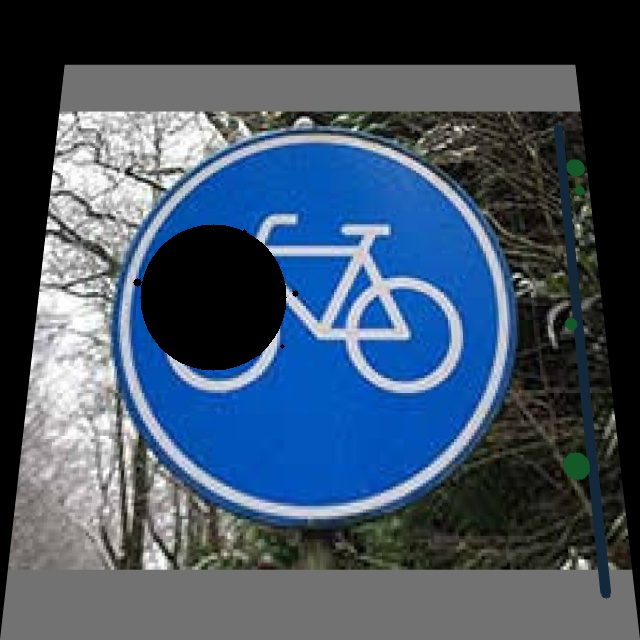Compulsory_Cycle_Track: (108, 137, 530, 496)
